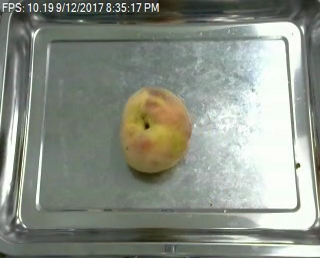Peach: (119, 85, 192, 173)
